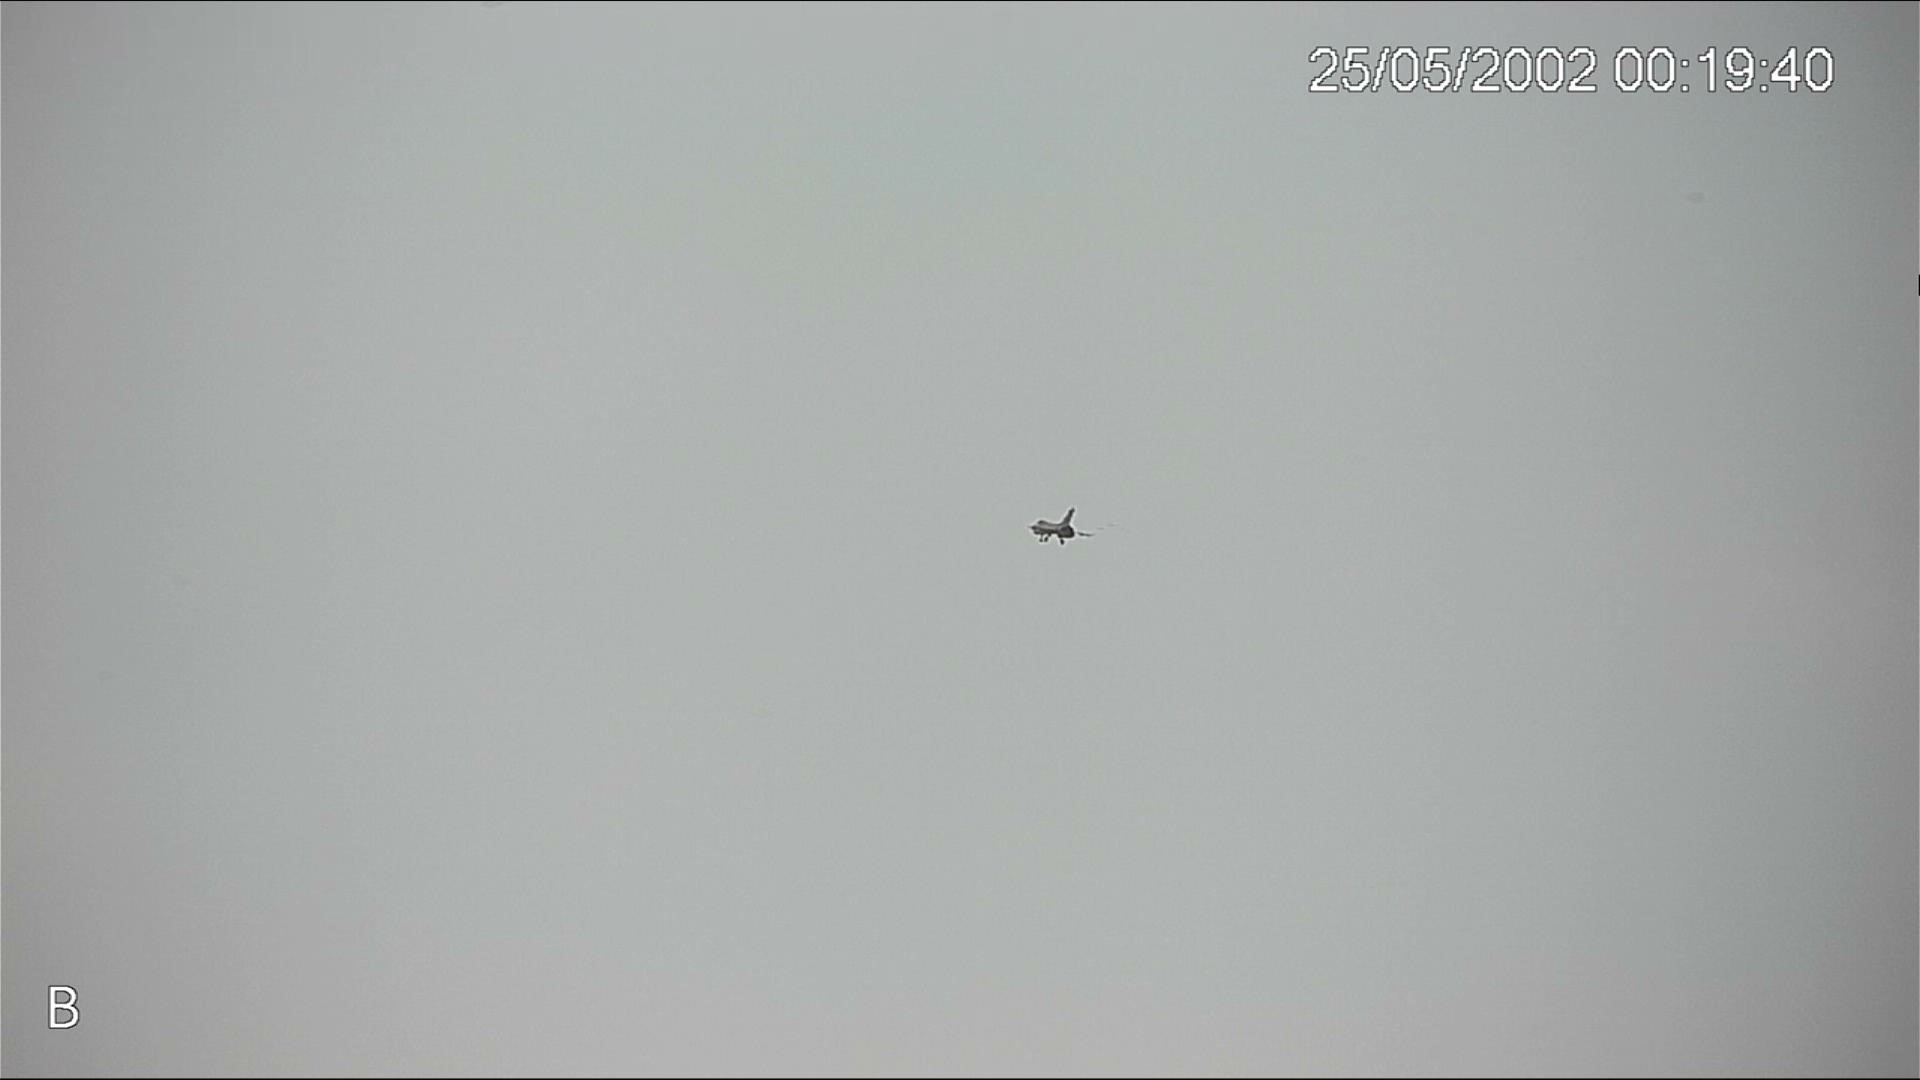SU_30: (1023, 502, 1096, 549)
